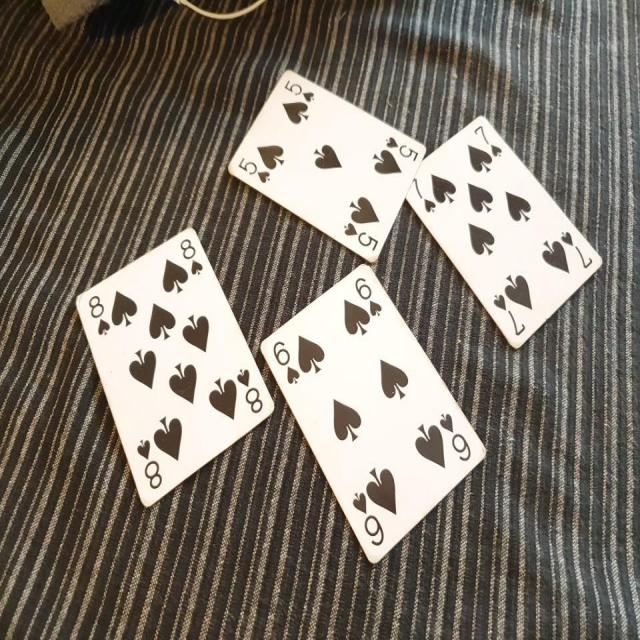5 Spades: (222, 64, 432, 277)
6 Spades: (254, 254, 488, 572)
7 Spades: (394, 102, 613, 358)
8 Spades: (68, 217, 282, 523)
